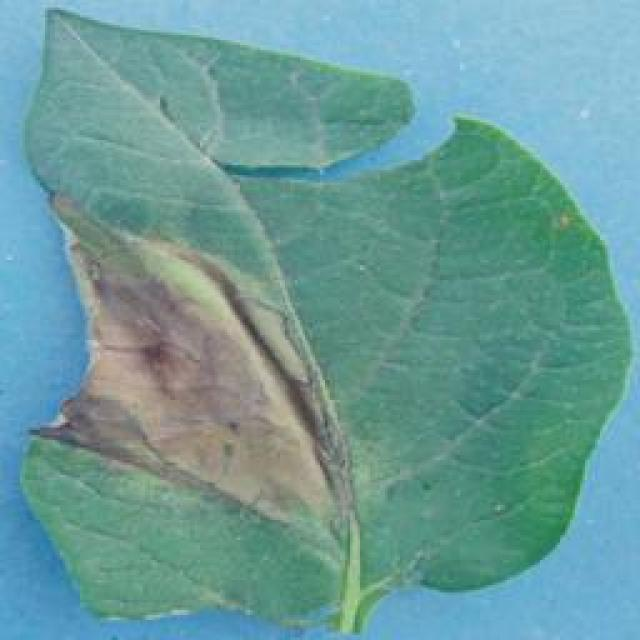Potato_Late_Blight: (13, 12, 623, 625)
